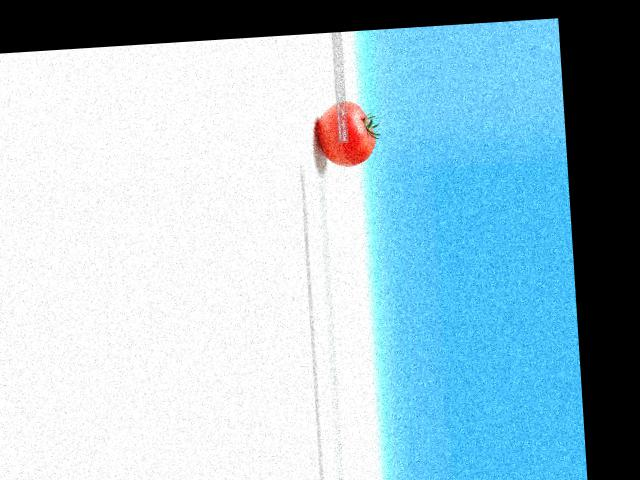tomato: (317, 98, 376, 167)
